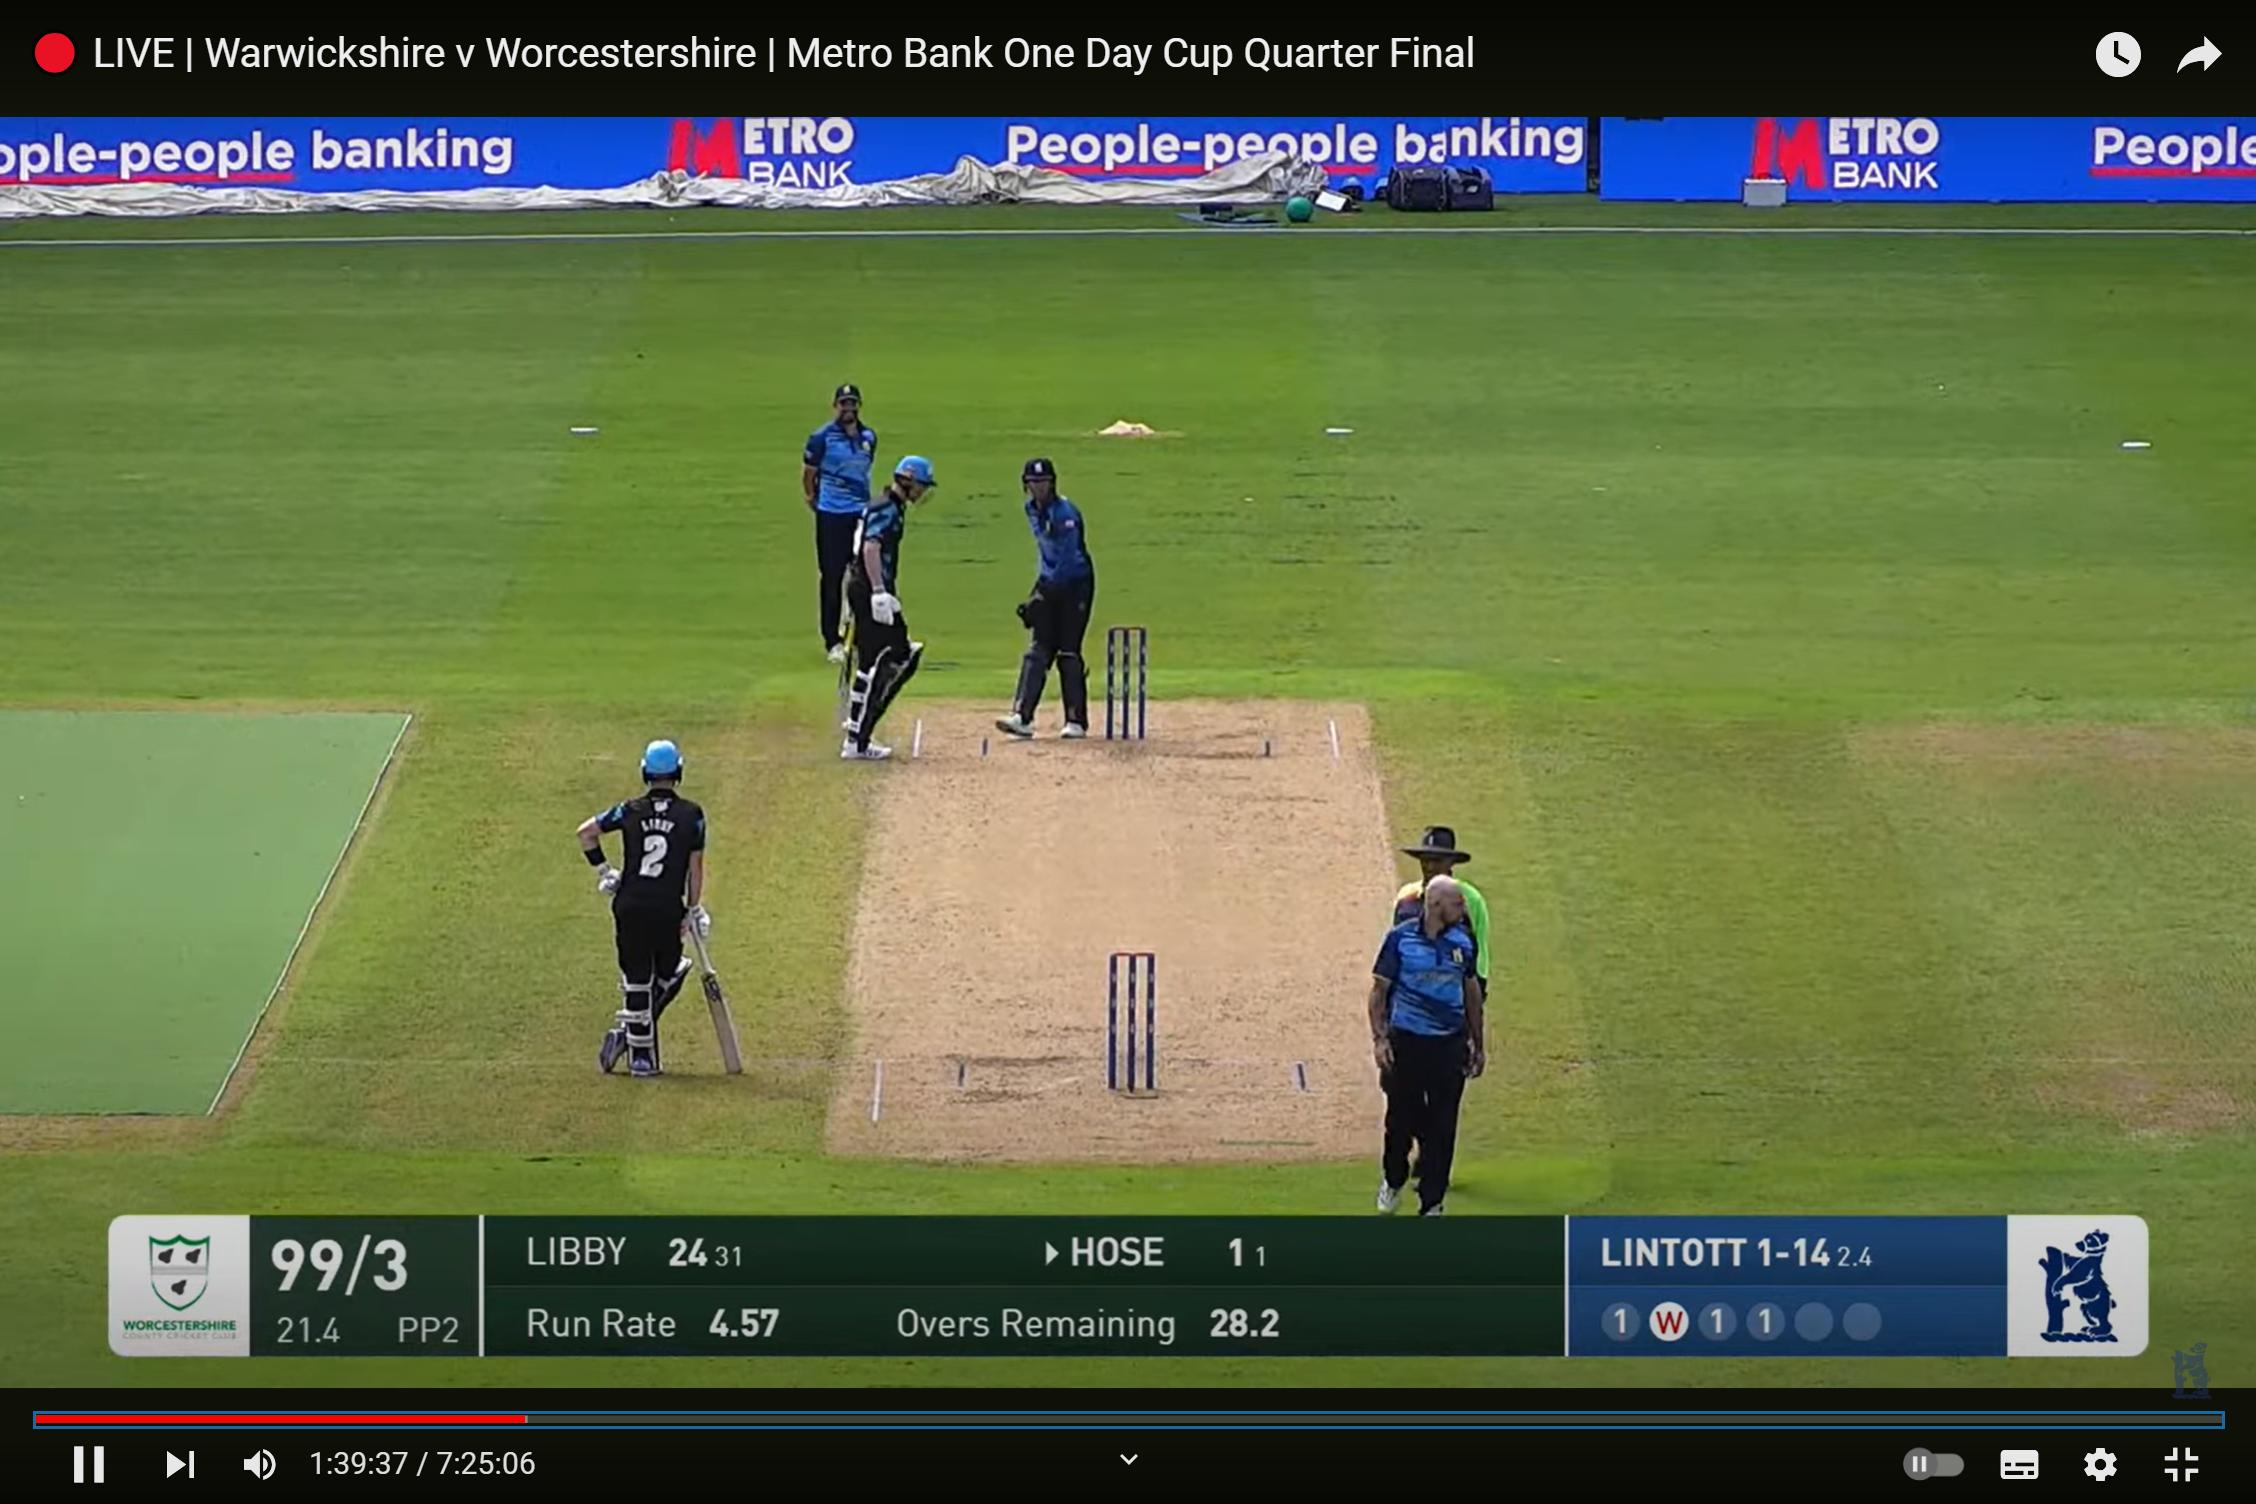bowler walking back: (1348, 886, 1494, 1219)
non striker: (530, 712, 762, 1101)
stumps: (1084, 923, 1182, 1120)
wicket keeper: (994, 438, 1111, 750)
